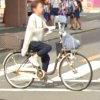bicycles: (1, 23, 94, 92)
